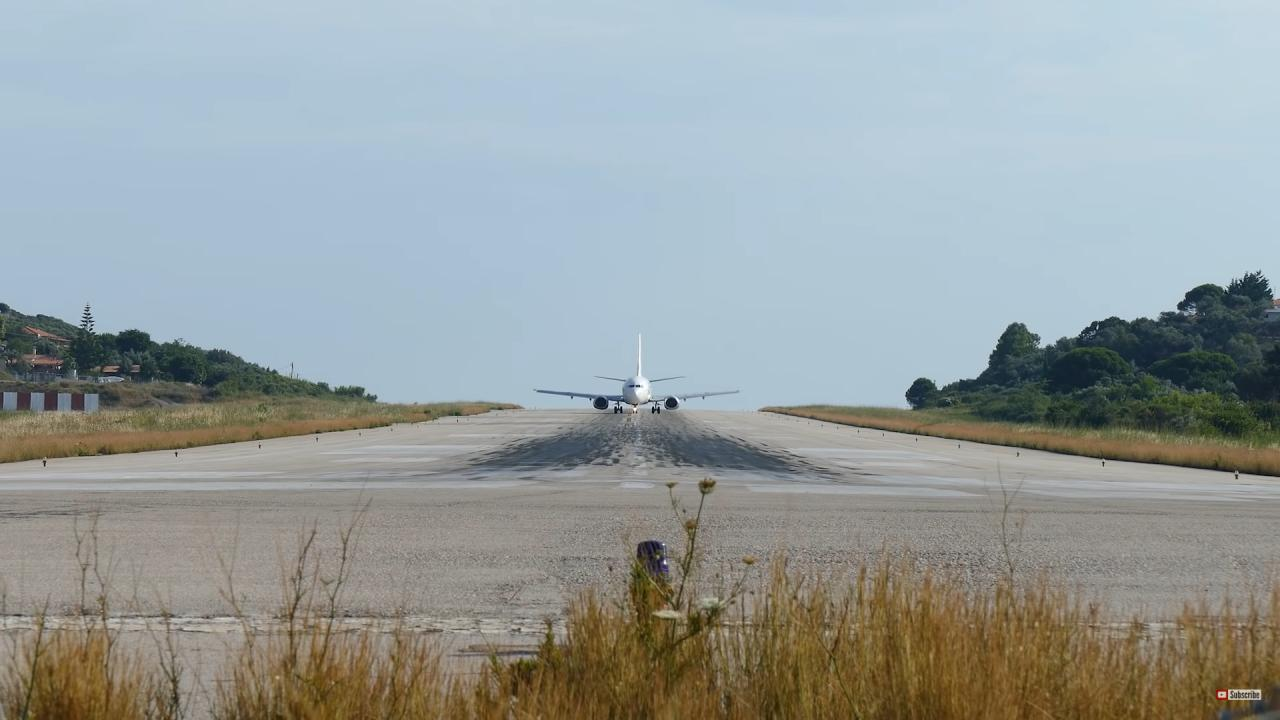Airplane: (524, 325, 754, 421)
